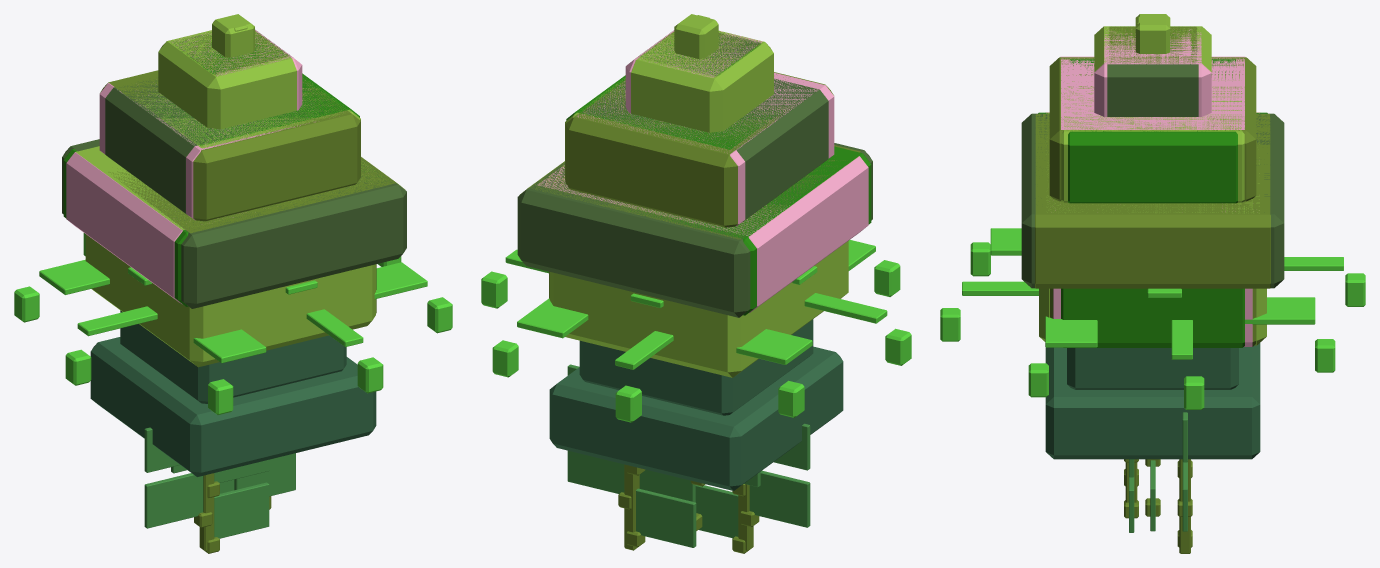
Rendered from flagship_props_037.glb.
3 renders of one model, left to right at view 1: azimuth 30°, elevation 25°; view 2: azimuth 150°, elevation 25°; view 3: azimuth 270°, elevation 25°, orthographic. The views are drawn at different scales.
Visible parts, largest first — view 1: Prop_Tree_Cedar_Mature_Top, Prop_Tree_Ironwood_Mature_Top, Prop_Tree_Birch_Mature_Top, Prop_Tree_Baobab_Mature_Top, Prop_Tree_Banana_Mature_Top.001, Prop_Tree_Cherry_Mature_Top, Prop_Tree_Kelp_Mature_Top.001, Prop_Tree_Kapok_Mature_Top, Prop_Tree_Banana_Mature.001; view 2: Prop_Tree_Ironwood_Mature_Top, Prop_Tree_Cedar_Mature_Top, Prop_Tree_Birch_Mature_Top, Prop_Tree_Baobab_Mature_Top, Prop_Tree_Cherry_Mature_Top, Prop_Tree_Kelp_Mature_Top.001, Prop_Tree_Banana_Mature_Top.001, Prop_Tree_Kapok_Mature_Top, Prop_Tree_Banana_Mature.001; view 3: Prop_Tree_Baobab_Mature_Top, Prop_Tree_Cedar_Mature_Top, Prop_Tree_Kapok_Mature_Top, Prop_Tree_Banana_Mature_Top.001, Prop_Tree_Cherry_Mature_Top, Prop_Tree_Ironwood_Mature_Top, Prop_Tree_Birch_Mature_Top, Prop_Tree_Kelp_Mature_Top.001, Prop_Tree_Banana_Mature.001.
Boxes of the visible parts, x1,y1,x2,y2 form: Prop_Tree_Cedar_Mature_Top: [90, 310, 376, 476]; Prop_Tree_Ironwood_Mature_Top: [62, 31, 406, 308]; Prop_Tree_Birch_Mature_Top: [76, 30, 377, 367]; Prop_Tree_Baobab_Mature_Top: [100, 30, 405, 313]; Prop_Tree_Banana_Mature_Top.001: [14, 233, 452, 414]; Prop_Tree_Cherry_Mature_Top: [66, 30, 315, 304]; Prop_Tree_Kelp_Mature_Top.001: [144, 427, 295, 553]; Prop_Tree_Kapok_Mature_Top: [63, 33, 380, 306]; Prop_Tree_Banana_Mature.001: [212, 14, 254, 57]; Prop_Tree_Ironwood_Mature_Top: [517, 32, 872, 317]; Prop_Tree_Cedar_Mature_Top: [549, 319, 843, 490]; Prop_Tree_Birch_Mature_Top: [549, 30, 858, 377]; Prop_Tree_Baobab_Mature_Top: [519, 32, 860, 298]; Prop_Tree_Cherry_Mature_Top: [537, 30, 868, 313]; Prop_Tree_Kelp_Mature_Top.001: [567, 364, 810, 553]; Prop_Tree_Banana_Mature_Top.001: [481, 240, 911, 422]; Prop_Tree_Kapok_Mature_Top: [566, 36, 871, 315]; Prop_Tree_Banana_Mature.001: [674, 14, 718, 58]; Prop_Tree_Baobab_Mature_Top: [1035, 26, 1270, 346]; Prop_Tree_Cedar_Mature_Top: [1045, 343, 1260, 459]; Prop_Tree_Kapok_Mature_Top: [1038, 28, 1267, 347]; Prop_Tree_Banana_Mature_Top.001: [940, 228, 1365, 409]; Prop_Tree_Cherry_Mature_Top: [1046, 28, 1259, 346]; Prop_Tree_Ironwood_Mature_Top: [1021, 28, 1284, 288]; Prop_Tree_Birch_Mature_Top: [1039, 26, 1266, 345]; Prop_Tree_Kelp_Mature_Top.001: [1124, 412, 1192, 553]; Prop_Tree_Banana_Mature.001: [1135, 14, 1170, 53].
Bounding box in the file's own units: 3.96 × 5.27 × 3.96.
